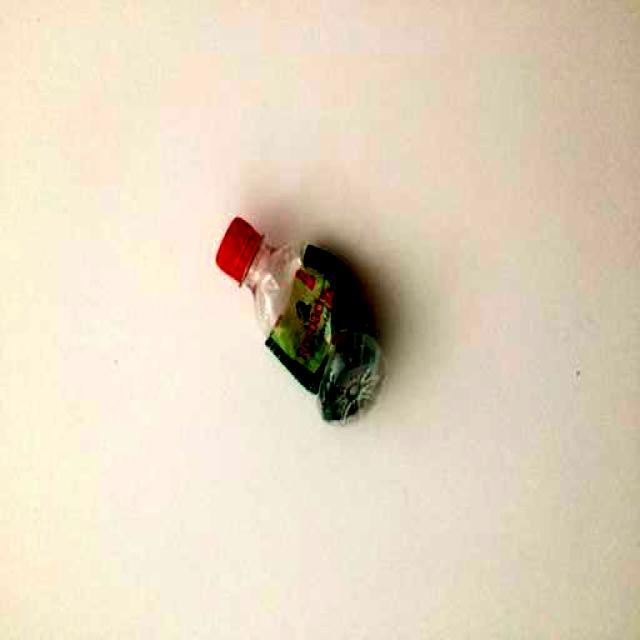Plastic: (211, 207, 387, 428)
